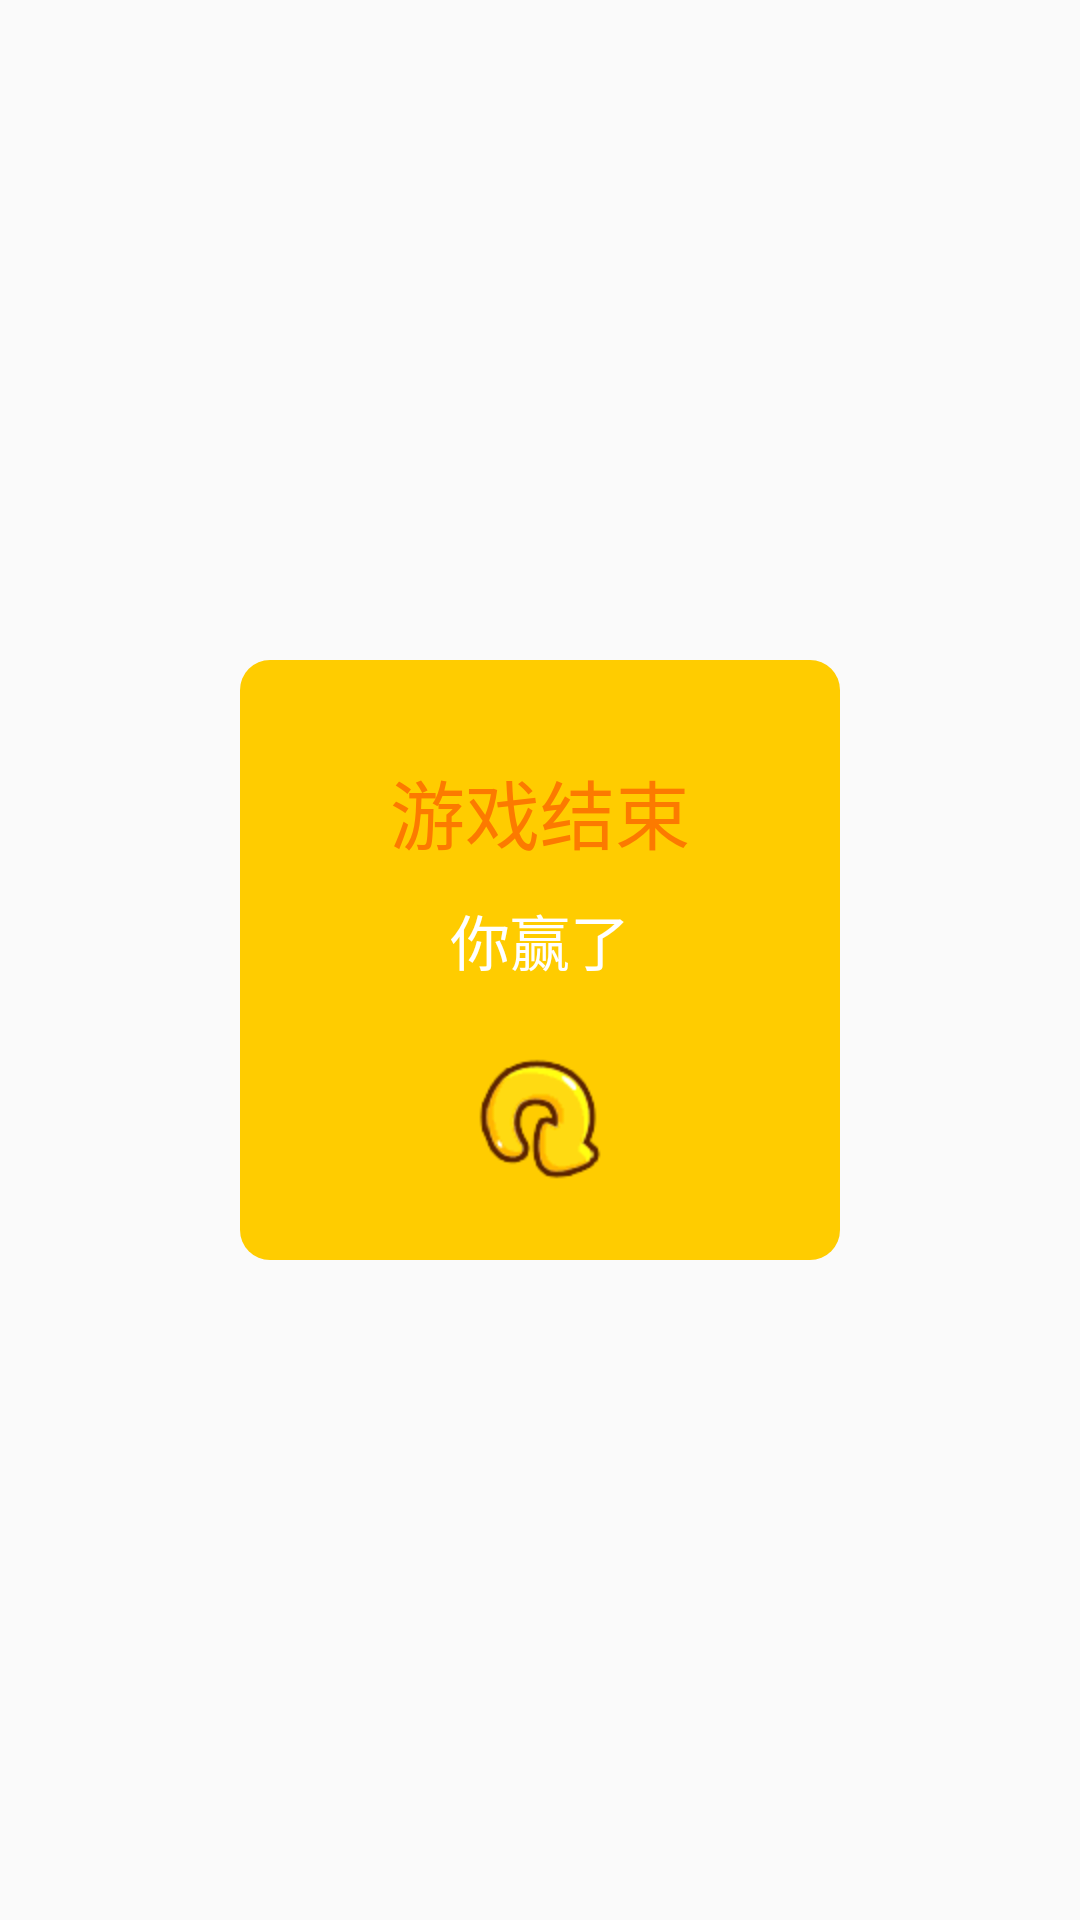

Named icons in this screenshot (1080 x 1920) and their centers, (x,y):
game back: (540,1119)
